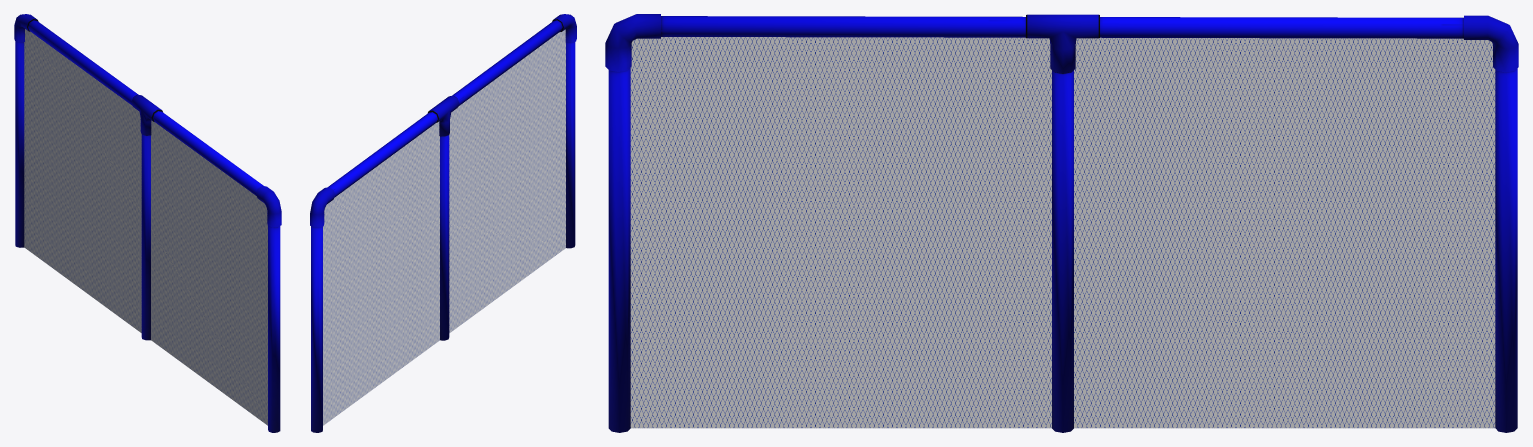
The model's file is fence.fbx.
3 renders of one model, left to right at view 1: azimuth 30°, elevation 25°; view 2: azimuth 150°, elevation 25°; view 3: azimuth 270°, elevation 25°, orthographic. The views are drawn at different scales.
Parts seen in each view (by area): view 1: fence_wire, fence; view 2: fence_wire, fence; view 3: fence_wire, fence.
Part boxes in pixels (x1,y1,x2,y2): fence_wire: (24, 29, 267, 425); fence: (14, 14, 281, 432); fence_wire: (323, 29, 565, 425); fence: (310, 14, 576, 432); fence_wire: (630, 37, 1495, 428); fence: (605, 14, 1518, 432).
Bounding box in the file's own units: 23.78 × 412 × 824.
